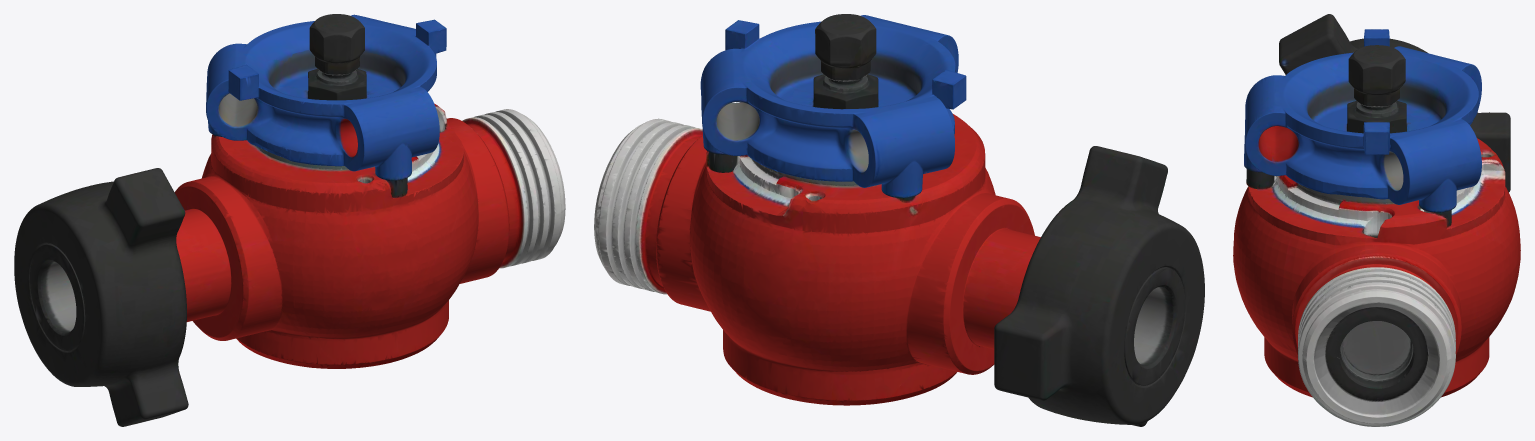
The model's file is valvulaTaponULT.glb.
3 views of the same model, side by side, from view 1: azimuth 30°, elevation 25°; view 2: azimuth 150°, elevation 25°; view 3: azimuth 270°, elevation 25° (orthographic). The views are drawn at different scales.
Visible parts, largest first — view 1: tripo_node_944534f8-f044-436e-8d30-0f0d112856dc; view 2: tripo_node_944534f8-f044-436e-8d30-0f0d112856dc; view 3: tripo_node_944534f8-f044-436e-8d30-0f0d112856dc.
Part boxes in pixels (bbox=[...]): tripo_node_944534f8-f044-436e-8d30-0f0d112856dc: bbox=[14, 14, 565, 426]; tripo_node_944534f8-f044-436e-8d30-0f0d112856dc: bbox=[594, 14, 1204, 426]; tripo_node_944534f8-f044-436e-8d30-0f0d112856dc: bbox=[1233, 14, 1520, 426].
Bounding box in the file's own units: 0.9798 × 0.6425 × 0.5056.
1 material, 1 textured.
